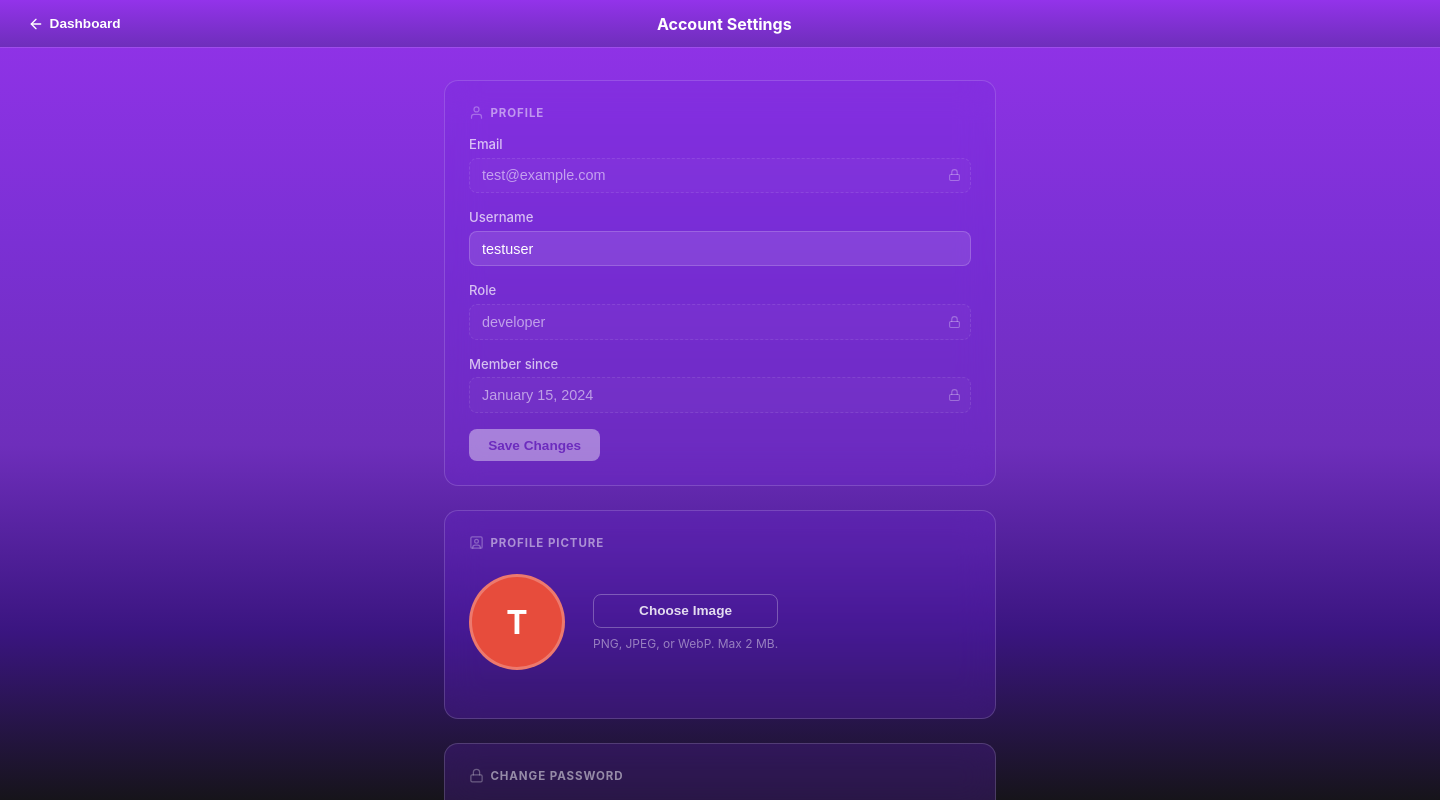
Test: AccountPage › shows validation error when username has invalid characters
Replace the text in the field showing "testuser" with "test user!": (720, 249) [469,231,971,266]
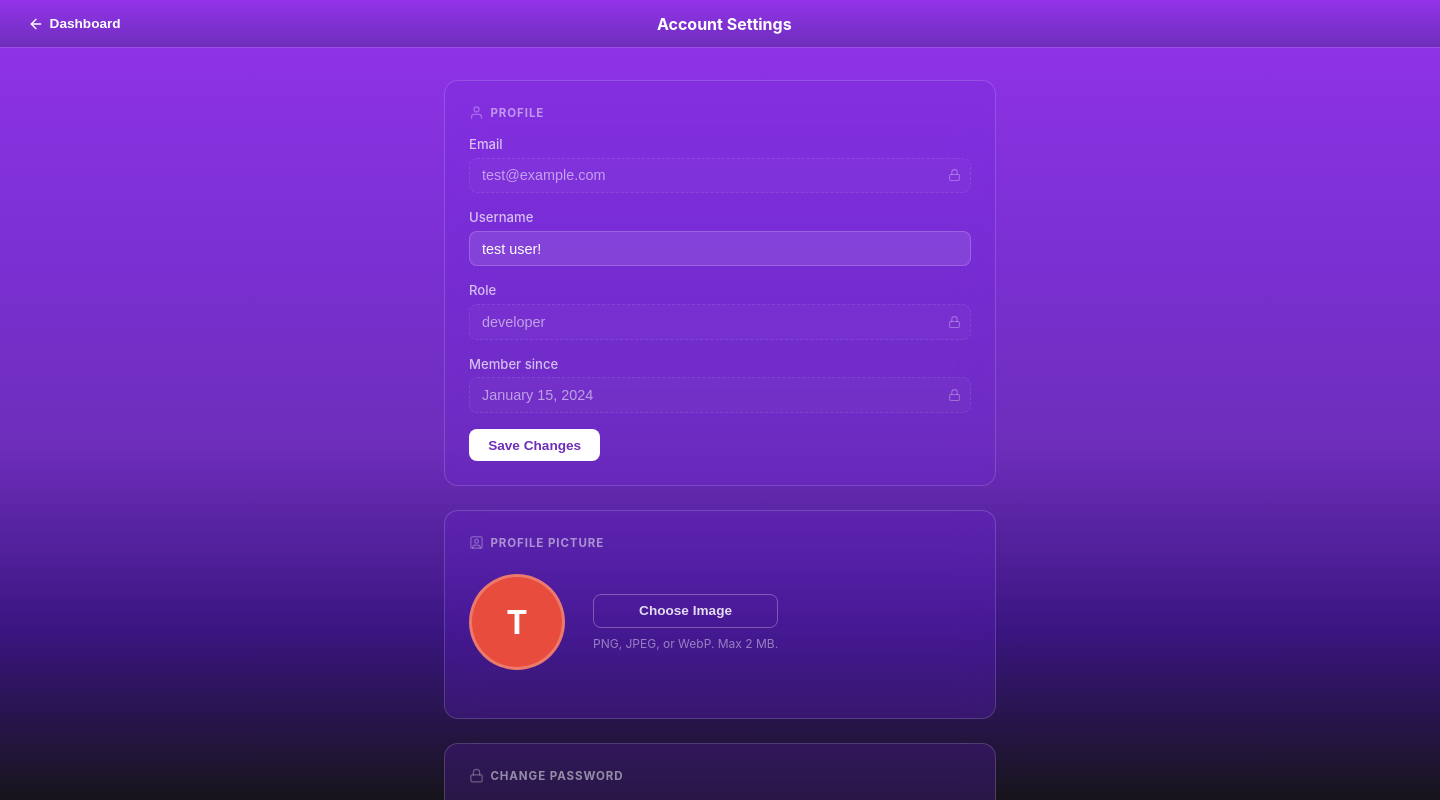
Click the button "Save Changes": (535, 445) [469,429,600,461]
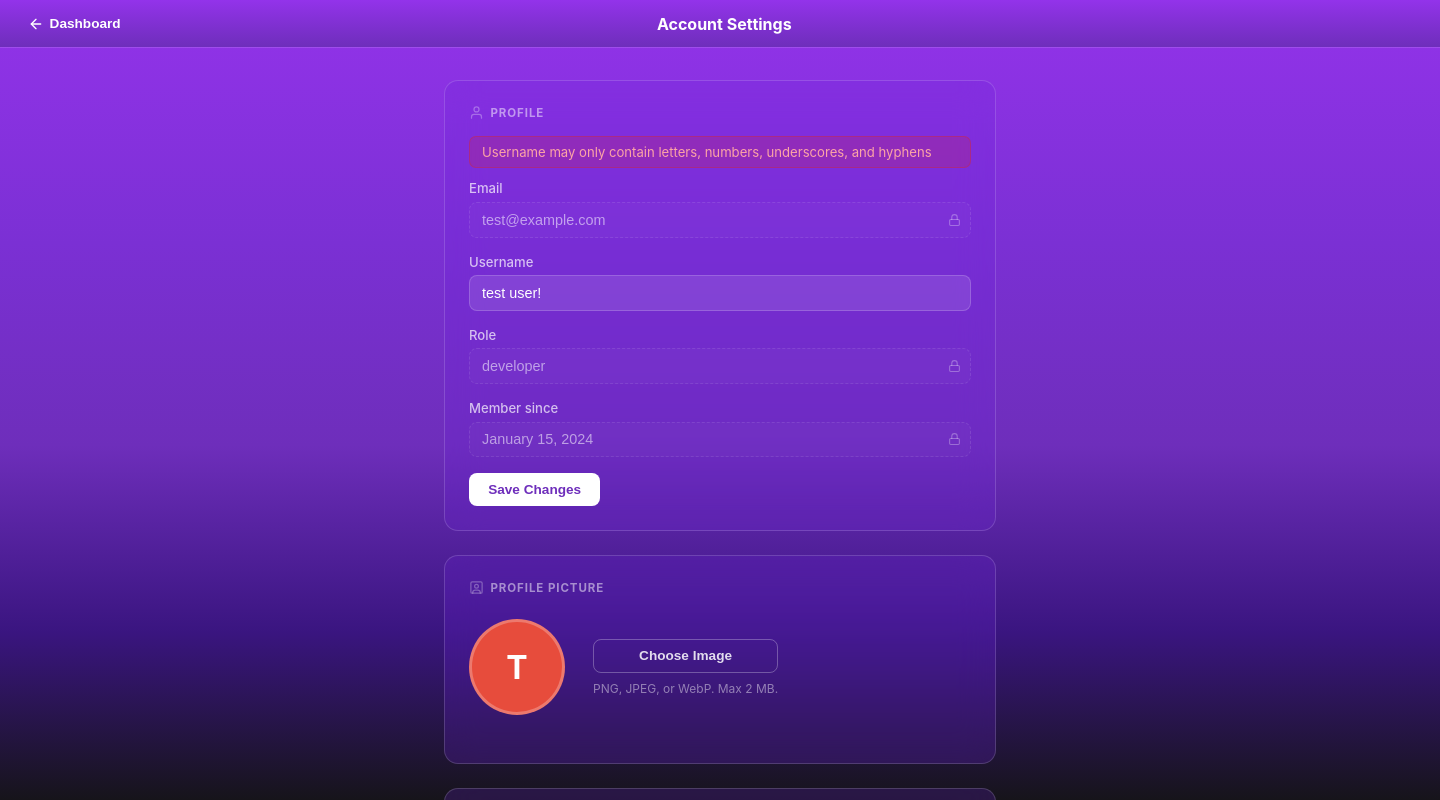
expect the text "letters, numbers, underscores, and hyphens" is shown: met, box [482,144,932,160]
